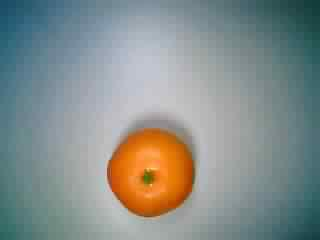orange: (102, 124, 198, 220)
